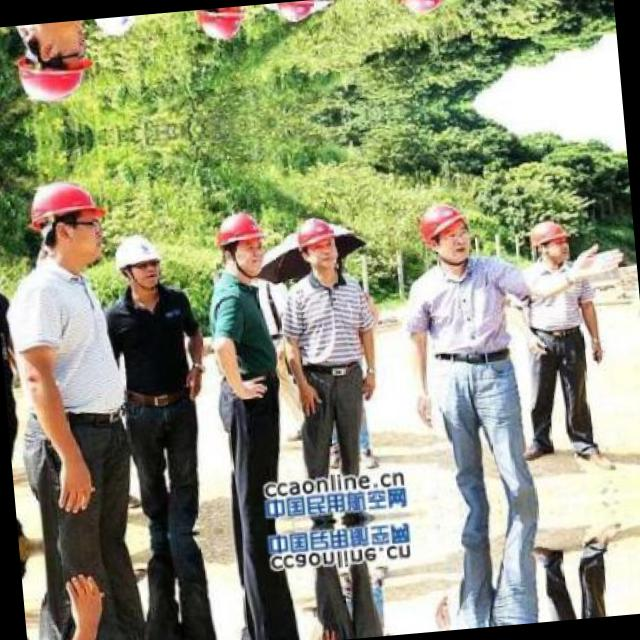helmet: (23, 173, 106, 267), (8, 20, 92, 109), (411, 195, 480, 268), (210, 208, 268, 276), (108, 230, 167, 296), (292, 211, 344, 278), (526, 215, 576, 268), (190, 5, 248, 45), (88, 14, 145, 40), (392, 0, 458, 21), (274, 0, 323, 27)
